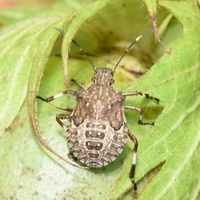insect: (36, 29, 159, 190)
